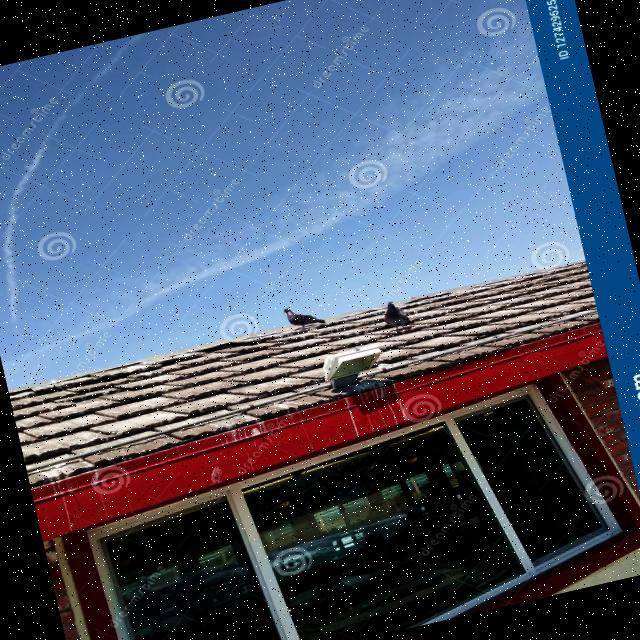bird: (282, 300, 326, 332), (380, 298, 413, 334)
